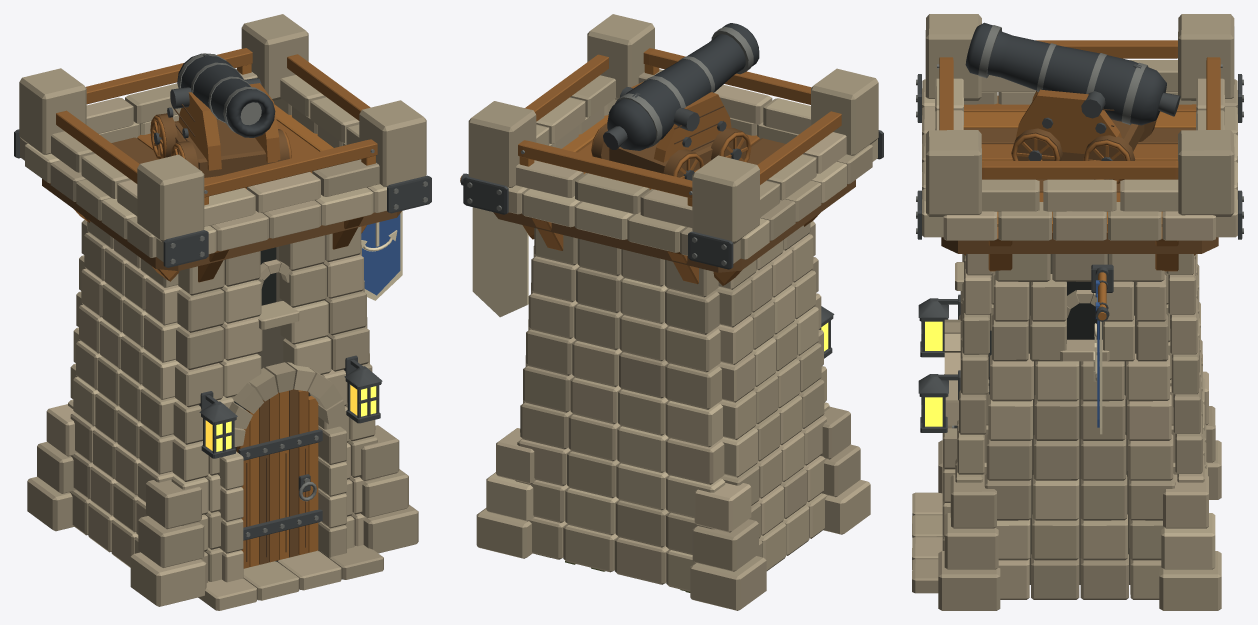
3 renders of one model, left to right at view 1: azimuth 30°, elevation 25°; view 2: azimuth 150°, elevation 25°; view 3: azimuth 270°, elevation 25°, orthographic. The views are drawn at different scales.
Parts seen in each view (by area): view 1: 海港守卫炮塔, object 2, object 6; view 2: 海港守卫炮塔, object 2; view 3: 海港守卫炮塔, object 2, object 3, object 6, object 8.
Part boxes in pixels (x1,y1,x2,y2): 海港守卫炮塔: (14, 14, 431, 610); object 2: (177, 53, 275, 137); object 6: (223, 86, 265, 132); 海港守卫炮塔: (460, 14, 883, 610); object 2: (607, 23, 759, 150); 海港守卫炮塔: (912, 14, 1243, 610); object 2: (965, 22, 1166, 125); object 3: (1121, 62, 1148, 124); object 6: (978, 25, 1001, 78); object 8: (1081, 91, 1105, 118).
Size of the model in its own units: 3.49 by 4.8 by 2.8.
